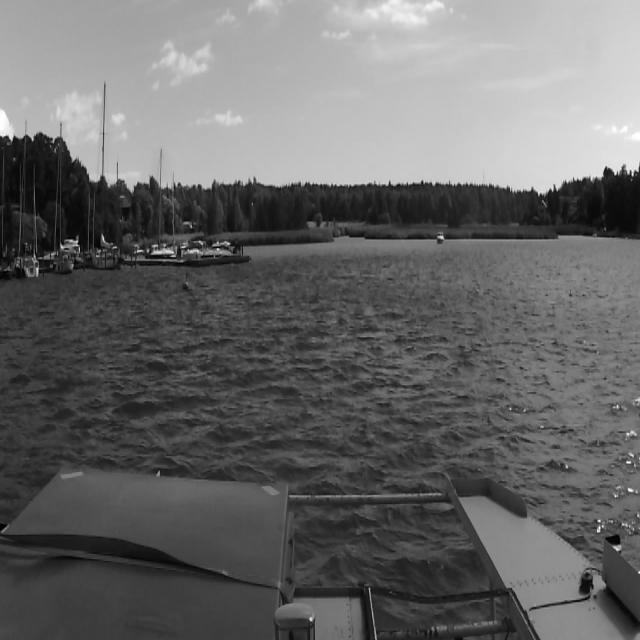ship: (90, 64, 121, 274), (44, 112, 77, 276), (9, 113, 41, 282), (146, 147, 174, 260), (204, 235, 238, 258), (183, 237, 203, 260), (434, 228, 446, 246)
